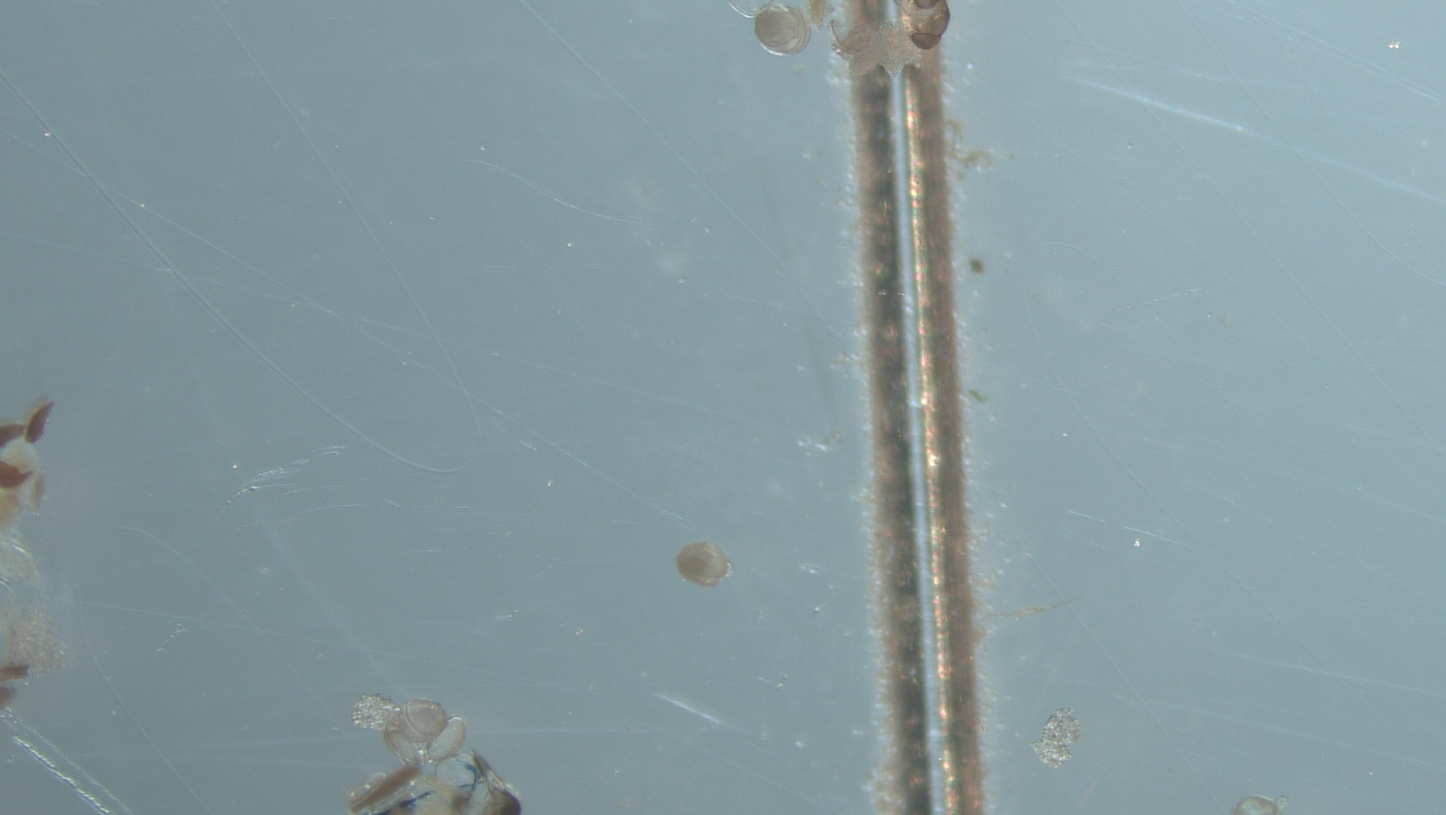dead: (437, 757, 481, 797), (427, 717, 466, 761), (384, 729, 430, 764), (727, 0, 771, 19)
live: (755, 3, 810, 55), (676, 541, 731, 587), (403, 699, 447, 742), (1231, 796, 1288, 815)
